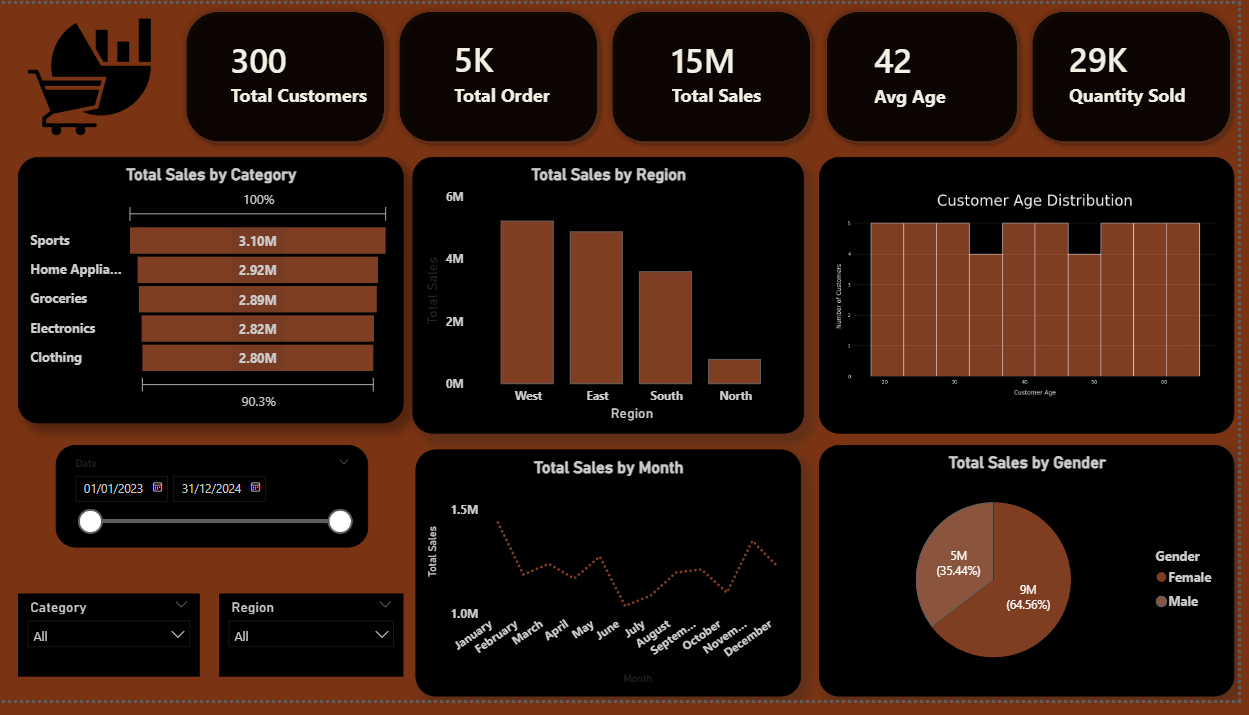

The page's visual inventory and layout, read from the dashboard file:
{"tool":"powerbi","page":{"name":"Detiels","canvas":[1280,720],"ordinal":1},"visuals":[{"type":"shape","box":[184.6,0,220.5,150.2],"z":0},{"type":"cardVisual","fields":{"Data":["Customer.Total Customers"]},"box":[209.6,12.5,208,115.7],"z":1000},{"type":"shape","box":[1058.9,0,220.5,150.2],"z":2000},{"type":"shape","box":[405.1,0,220.5,150.2],"z":3000},{"type":"shape","box":[625.7,0,220.5,150.2],"z":4000},{"type":"shape","box":[846.2,0,212.7,150.2],"z":5000},{"type":"cardVisual","fields":{"Data":["Customer.Total Order"]},"box":[441.1,17.2,164.2,104.8],"z":6000},{"type":"cardVisual","fields":{"Data":["Customer.Total Sales"]},"box":[664.8,12.5,165.8,115.7],"z":7000},{"type":"cardVisual","fields":{"Data":["Customer.Avg Age"]},"box":[875,12.6,165.2,116.5],"z":8000},{"type":"cardVisual","fields":{"Data":["Customer.Quantity Sold"]},"box":[1076.1,10.9,189.3,117.3],"z":9000},{"type":"funnel","fields":{"Y":["Customer.Total Sales"],"Category":["Product.Category"]},"box":[18.5,158.5,398.5,275.4],"z":10000},{"type":"clusteredColumnChart","fields":{"Category":["Customer.Region"],"Y":["Customer.Total Sales"]},"box":[426.2,158.5,404.6,286.2],"z":11000},{"type":"pieChart","fields":{"Category":["Customer.Gender"],"Y":["Customer.Total Sales"]},"box":[846.2,455.4,429.2,260],"z":12000},{"type":"lineChart","fields":{"Y":["Customer.Total Sales"],"Category":["Order.Date.Variation.Date Hierarchy.Month"]},"box":[429.2,460,398.5,255.4],"z":13000},{"type":"pythonVisual","fields":{"Values":["Customer.Age"]},"box":[846.2,158.5,429.2,286.2],"z":14000},{"type":"slicer","fields":{"Values":["Order.Date"]},"box":[56.9,455.4,323.1,106.2],"z":15000},{"type":"slicer","fields":{"Values":["Product.Category"]},"box":[18.5,609.2,187.7,86.2],"z":15001},{"type":"slicer","fields":{"Values":["Customer.Region"]},"box":[226.2,609.2,190.8,86.2],"z":15002},{"type":"image","box":[0,0,184.6,150.8],"z":15005}]}

Visuals, with their boxes in screenshot pixels (x1, y1, x2, y2), scaled from the page's 1280x720 canvas onto the 1249x715 screenshot:
shape: <box>180,0,395,149</box>
cardVisual - Customer.Total Customers: <box>205,12,407,127</box>
shape: <box>1033,0,1248,149</box>
shape: <box>395,0,610,149</box>
shape: <box>611,0,826,149</box>
shape: <box>826,0,1033,149</box>
cardVisual - Customer.Total Order: <box>430,17,591,121</box>
cardVisual - Customer.Total Sales: <box>649,12,810,127</box>
cardVisual - Customer.Avg Age: <box>854,13,1015,128</box>
cardVisual - Customer.Quantity Sold: <box>1050,11,1235,127</box>
funnel - Customer.Total Sales x Product.Category: <box>18,157,407,431</box>
clusteredColumnChart - Customer.Region x Customer.Total Sales: <box>416,157,811,442</box>
pieChart - Customer.Gender x Customer.Total Sales: <box>826,452,1245,710</box>
lineChart - Customer.Total Sales x Order.Date.Variation.Date Hierarchy.Month: <box>419,457,808,710</box>
pythonVisual - Customer.Age: <box>826,157,1245,442</box>
slicer - Order.Date: <box>56,452,371,558</box>
slicer - Product.Category: <box>18,605,201,691</box>
slicer - Customer.Region: <box>221,605,407,691</box>
image: <box>0,0,180,150</box>
